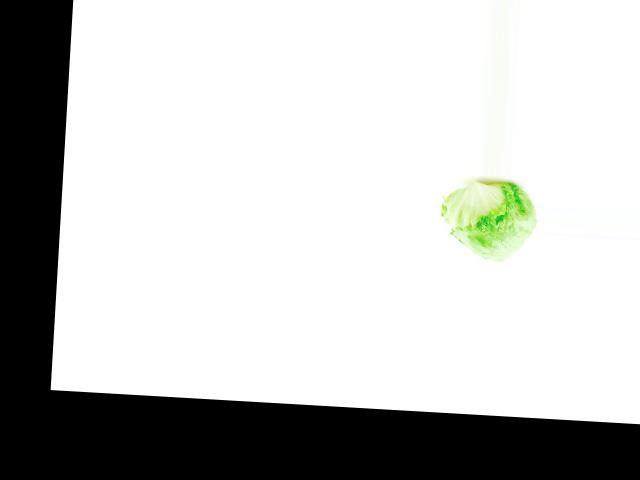lettuce: (438, 178, 541, 266)
